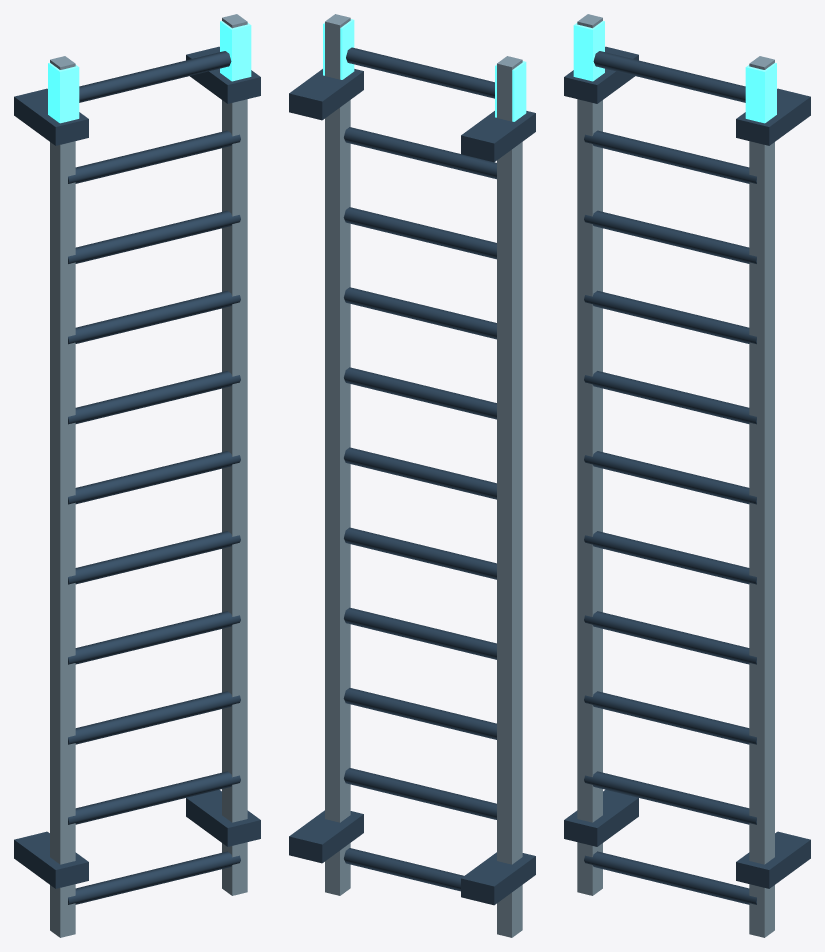
File: ladder.glb
3 renders of one model, left to right at view 1: azimuth 30°, elevation 25°; view 2: azimuth 150°, elevation 25°; view 3: azimuth 330°, elevation 25°, orthographic.
Parts seen in each view (by area): view 1: prop-ladder-sz-armor, prop-ladder-sz-edge, prop-ladder-sz-mint; view 2: prop-ladder-sz-edge, prop-ladder-sz-armor, prop-ladder-sz-mint; view 3: prop-ladder-sz-armor, prop-ladder-sz-edge, prop-ladder-sz-mint.
Part boxes in pixels (x1,y1,x2,y2): prop-ladder-sz-armor: (14,46,260,904); prop-ladder-sz-edge: (50,14,247,937); prop-ladder-sz-mint: (48,21,251,123); prop-ladder-sz-edge: (325,14,522,937); prop-ladder-sz-armor: (289,47,535,905); prop-ladder-sz-mint: (323,19,526,121); prop-ladder-sz-armor: (564,46,810,904); prop-ladder-sz-edge: (577,14,774,937); prop-ladder-sz-mint: (573,21,776,123).
Bounding box in the file's own units: 0.74 × 3 × 0.26.
